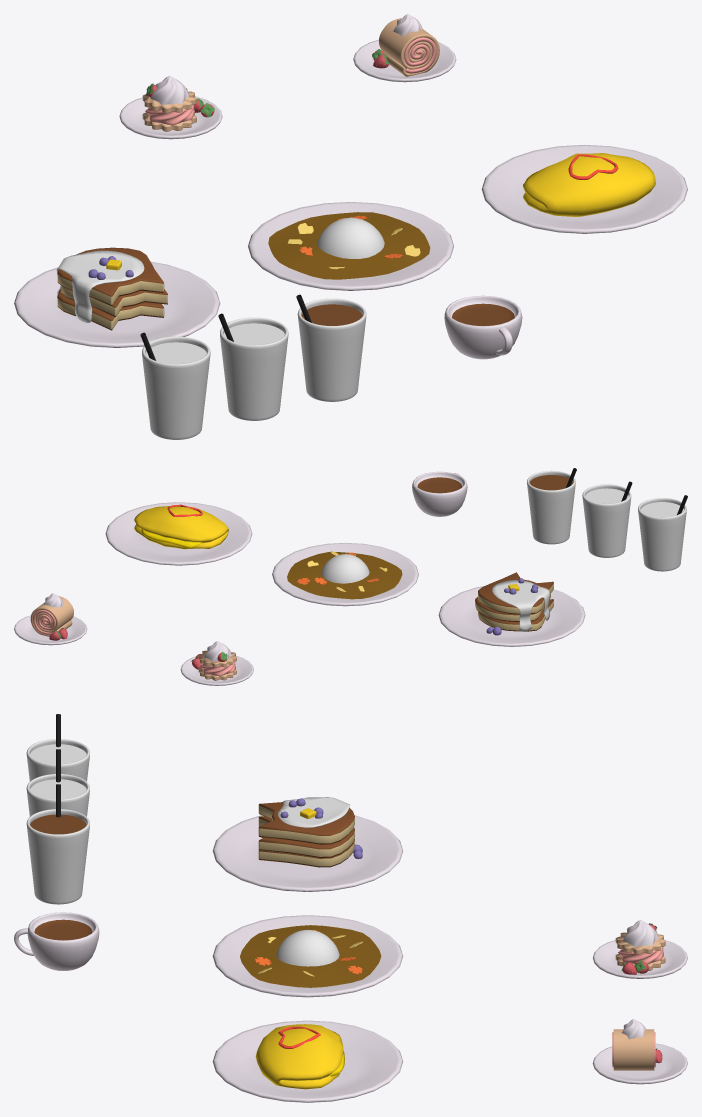
The model's file is Foodpack.fbx.
The picture shows the model from 3 angles, top to bottom: view 1: azimuth 30°, elevation 25°; view 2: azimuth 150°, elevation 25°; view 3: azimuth 270°, elevation 25°; orthographic projection. The views are drawn at different scales.
Parts seen in each view (by area): view 1: Plate.3, Plate, Pancake, Omurice, Plate.004, BlueSoda, Ice Coffee, PinkSoda, JapaneseKatsuCurry, Hot Coffee, RollCake, SakuraCake (+3 smaller); view 2: Plate, Plate.3, Pancake, Plate.004, Omurice, PinkSoda, Ice Coffee, BlueSoda, JapaneseKatsuCurry, Hot Coffee, RollCake, SakuraCake (+3 smaller); view 3: Plate, Plate.3, Pancake, Plate.004, Ice Coffee, JapaneseKatsuCurry, Omurice, Hot Coffee, PinkSoda, BlueSoda, SakuraCake, RollCake (+3 smaller).
Part boxes in pixels (x1,y1,x2,y2): Plate.3: [14, 261, 220, 347]; Plate: [481, 145, 687, 233]; Pancake: [56, 247, 167, 330]; Omurice: [523, 153, 655, 216]; Plate.004: [248, 202, 453, 290]; BlueSoda: [140, 332, 210, 439]; Ice Coffee: [296, 294, 366, 401]; PinkSoda: [218, 313, 288, 420]; JapaneseKatsuCurry: [268, 212, 430, 279]; Hot Coffee: [444, 295, 522, 359]; RollCake: [372, 14, 439, 76]; SakuraCake: [142, 76, 214, 131]; Plate: [105, 502, 252, 565]; Plate.3: [438, 586, 585, 646]; Pancake: [475, 572, 553, 635]; Plate.004: [272, 542, 418, 606]; Omurice: [134, 506, 228, 549]; PinkSoda: [582, 481, 632, 557]; Ice Coffee: [527, 468, 576, 544]; BlueSoda: [638, 495, 687, 571]; JapaneseKatsuCurry: [287, 552, 402, 599]; Hot Coffee: [412, 471, 467, 516]; RollCake: [30, 593, 73, 640]; SakuraCake: [191, 641, 236, 680]; Plate: [212, 1020, 403, 1102]; Plate.3: [212, 815, 402, 891]; Pancake: [258, 797, 362, 867]; Plate.004: [212, 915, 403, 997]; Ice Coffee: [26, 784, 89, 904]; JapaneseKatsuCurry: [240, 925, 381, 987]; Omurice: [255, 1024, 344, 1089]; Hot Coffee: [14, 912, 99, 970]; PinkSoda: [26, 749, 89, 816]; BlueSoda: [26, 714, 89, 781]; SakuraCake: [615, 920, 665, 974]; RollCake: [612, 1019, 662, 1070].
Size of the model in its own units: 858 by 129 by 811.
